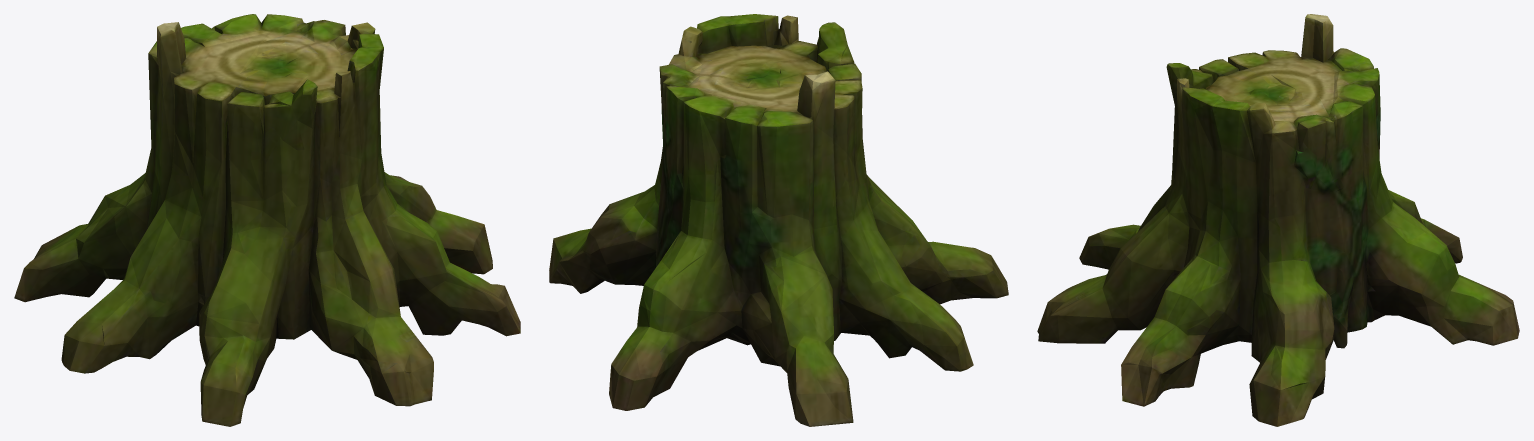
The model's file is d_racines_souche.glb.
The picture shows the model from 3 angles, left to right: view 1: azimuth 30°, elevation 25°; view 2: azimuth 150°, elevation 25°; view 3: azimuth 270°, elevation 25°; orthographic projection. The views are drawn at different scales.
Parts seen in each view (by area): view 1: geometry_0; view 2: geometry_0; view 3: geometry_0.
Part boxes in pixels (x1=…): geometry_0: x1=14, y1=14, x2=520, y2=426; geometry_0: x1=549, y1=14, x2=1008, y2=426; geometry_0: x1=1037, y1=14, x2=1519, y2=426.
Bounding box in the file's own units: 0.9649 × 0.6306 × 1.
1 material, 1 textured.
